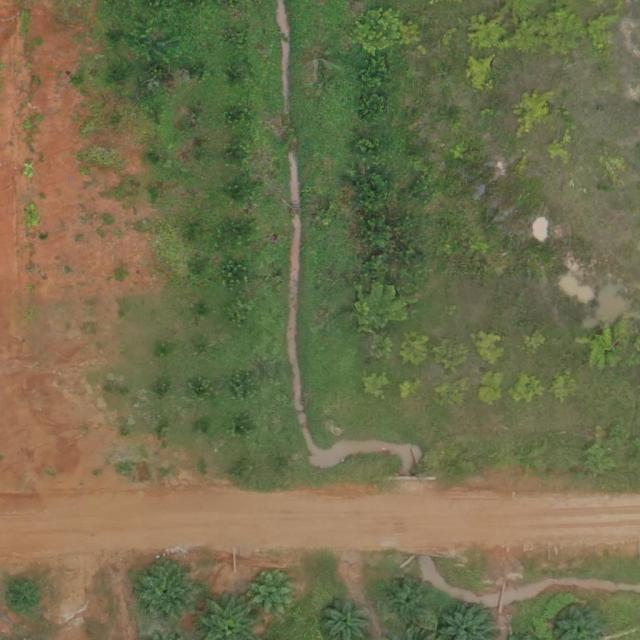Healthy: (136, 563, 198, 626)
Small: (250, 568, 305, 623), (391, 583, 430, 622)
